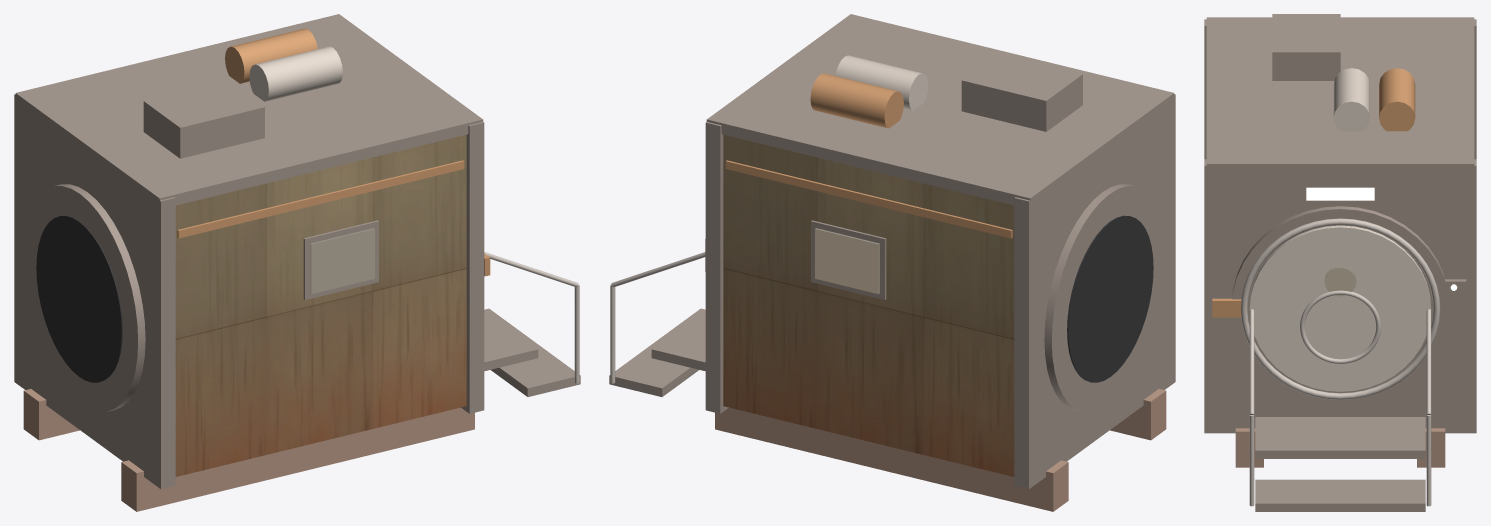
File: P06_airlock_module.glb
3 renders of one model, left to right at view 1: azimuth 30°, elevation 25°; view 2: azimuth 150°, elevation 25°; view 3: azimuth 270°, elevation 25°, orthographic. The views are drawn at different scales.
Parts seen in each view (by area): view 1: chamber, end_frame, skid, porthole, seal; view 2: chamber, end_frame, skid, porthole, seal; view 3: end_frame, chamber, seal, skid, object 6, porthole.
Part boxes in pixels (x1,y1,x2,y2): chamber: [36, 28, 490, 476]; end_frame: [14, 14, 580, 488]; skid: [23, 389, 474, 511]; porthole: [310, 228, 374, 293]; seal: [484, 252, 579, 383]; chamber: [723, 55, 1153, 476]; end_frame: [609, 14, 1175, 488]; skid: [715, 389, 1166, 511]; porthole: [815, 228, 879, 293]; seal: [610, 252, 705, 383]; end_frame: [1204, 14, 1476, 511]; chamber: [1212, 68, 1431, 391]; seal: [1241, 218, 1440, 506]; skid: [1235, 428, 1445, 467]; object 6: [1306, 187, 1457, 290]; porthole: [1324, 266, 1356, 296].
Size of the model in its own units: 4.31 by 3.21 by 2.4.
7 materials, 1 textured.
